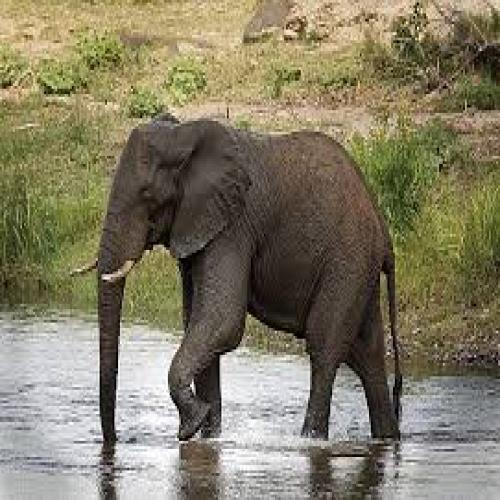asian_elephant-endangered: (74, 113, 408, 447)
